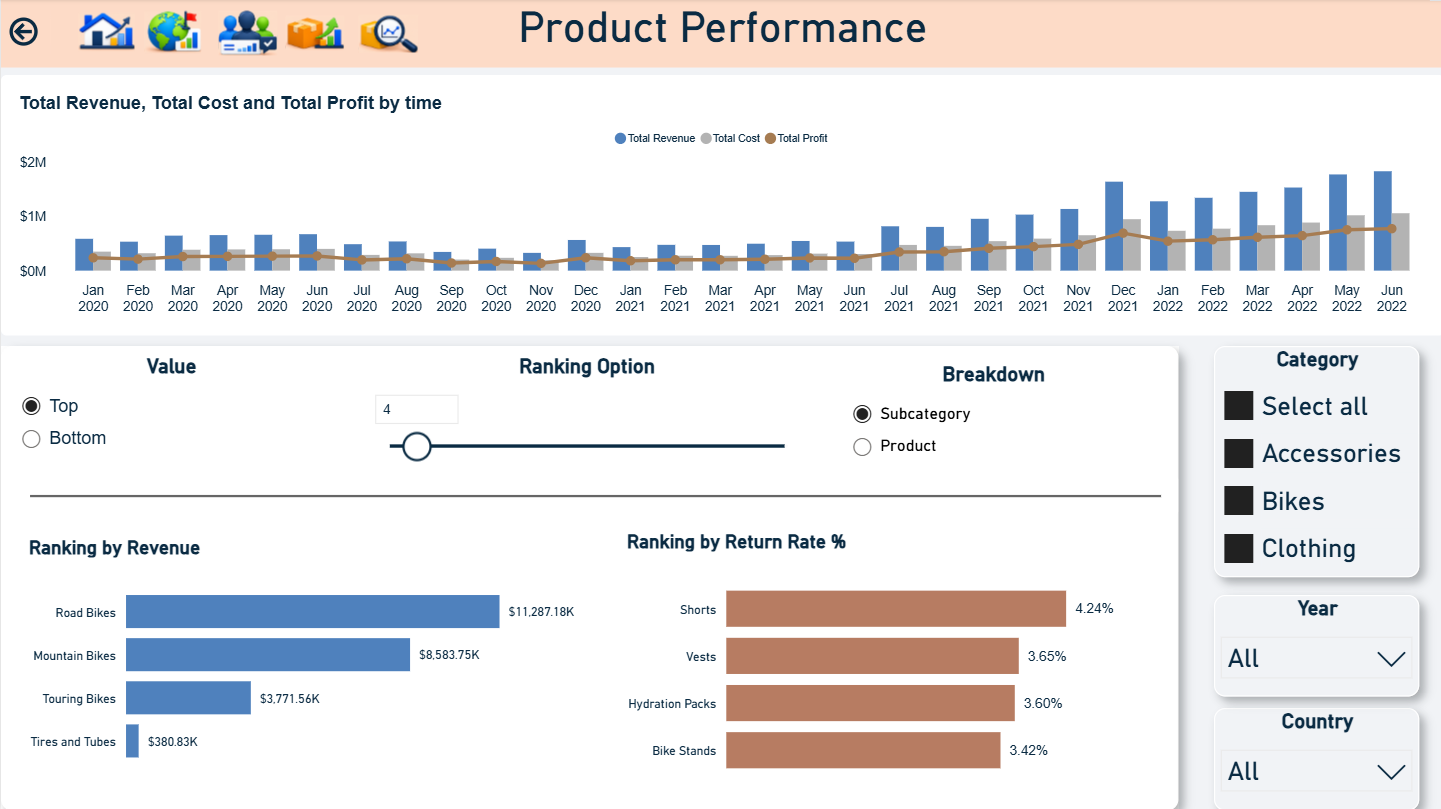

What the dashboard file says about the page in this screenshot:
{"tool":"powerbi","page":{"name":"Product Performance","canvas":[1280,720],"ordinal":4},"visuals":[{"type":"lineClusteredColumnComboChart","title":"Total Revenue, Total Cost and Total Profit by time","fields":{"Category":["Dim_Date.YearMonth"],"Y":["Measure Table.Total Revenue","Measure Table.Total Cost"],"Y2":["Measure Table.Total Profit"]},"box":[0,67.5,1280,230.8],"z":0},{"type":"shape","box":[0,307.4,1044.1,411.6],"z":0,"group":"g3"},{"type":"group","id":"g1","title":"Group 1","box":[0,307.4,1044.1,411.6],"z":1000},{"type":"textbox","box":[0,0,1267.1,54.1],"z":2000},{"type":"group","id":"g2","title":"Group 2","box":[0,1.8,1280.4,58.5],"z":2000,"group":"g4"},{"type":"group","id":"g3","title":"Group 2","box":[0,307.4,1044.1,411.6],"z":2001,"group":"g1"},{"type":"clusteredBarChart","title":"Ranking by Revenue","fields":{"Category":["Dim Product.SubcategoryName"],"Y":["Measure Table.Ranking Revenue SubCategory/Product"]},"box":[9.1,460.2,515,243.9],"z":2063,"group":"g1"},{"type":"clusteredBarChart","title":"Ranking by Return Rate %","fields":{"Category":["Dim Product.SubcategoryName"],"Y":["Measure Table.Ranking Return Rate SubCategory/Product"]},"box":[538.8,454.4,474.6,260.4],"z":2094,"group":"g1"},{"type":"slicer","title":"Value","fields":{"Values":["TopBottom.Value"]},"box":[9.6,313.5,281,109.1],"z":2126,"group":"g1"},{"type":"slicer","title":"Ranking Option","fields":{"Values":["Parameters Ranking.Parameters Ranking"]},"box":[323.1,313.5,391.9,104.1],"z":2251,"group":"g1"},{"type":"slicer","title":"Breakdown","fields":{"Values":["SubCategory/Product.SubCategory/Product"]},"box":[746.6,320.5,265.5,111.4],"z":2501,"group":"g1"},{"type":"actionButton","box":[0,8.9,44.3,39.9],"z":3000,"group":"g5"},{"type":"slicer","title":"Country","fields":{"Values":["Dim Territory.Country"]},"box":[1075.6,628.7,181.8,91.3],"z":3000},{"type":"shape","box":[9.8,421.3,1033.9,38.1],"z":3001,"group":"g1"},{"type":"actionButton","box":[313,0,63,61.2],"z":3125,"group":"g5"},{"type":"actionButton","box":[123.3,0,58.5,58.5],"z":3250,"group":"g5"},{"type":"actionButton","box":[64.5,0,58.5,58.5],"z":3500,"group":"g5"},{"type":"actionButton","box":[188.9,0,63.8,60.3],"z":4000,"group":"g5"},{"type":"slicer","title":"Year","fields":{"Values":["Dim_Date.Year"]},"box":[1075.6,528.5,181.8,90.4],"z":4000},{"type":"actionButton","box":[248.3,0,64.7,60.3],"z":4500,"group":"g5"},{"type":"group","id":"g4","title":"Group 1","box":[0,0,1280.4,61.2],"z":5000},{"type":"slicer","title":"Category","fields":{"Values":["Dim Product.CategoryName"]},"box":[1075.7,308.1,181.6,205.4],"z":6000},{"type":"textbox","box":[0,1.8,1280.4,58.5],"z":12000,"group":"g2"},{"type":"group","id":"g5","title":"Group 3","box":[0,0,376,61.2],"z":14002,"group":"g4"}]}

Visuals, with their boxes in screenshot pixels (x1, y1, x2, y2), scaled from the page's 1280x720 canvas onto the 1441x809 screenshot:
"Total Revenue, Total Cost and Total Profit by time" lineClusteredColumnComboChart: (x1=0, y1=76, x2=1440, y2=335)
shape: (x1=0, y1=345, x2=1175, y2=808)
"Group 1" group: (x1=0, y1=345, x2=1175, y2=808)
textbox: (x1=0, y1=0, x2=1426, y2=61)
"Group 2" group: (x1=0, y1=2, x2=1440, y2=68)
"Group 2" group: (x1=0, y1=345, x2=1175, y2=808)
"Ranking by Revenue" clusteredBarChart: (x1=10, y1=517, x2=590, y2=791)
"Ranking by Return Rate %" clusteredBarChart: (x1=607, y1=511, x2=1141, y2=803)
"Value" slicer: (x1=11, y1=352, x2=327, y2=475)
"Ranking Option" slicer: (x1=364, y1=352, x2=805, y2=469)
"Breakdown" slicer: (x1=841, y1=360, x2=1139, y2=485)
actionButton: (x1=0, y1=10, x2=50, y2=55)
"Country" slicer: (x1=1211, y1=706, x2=1416, y2=808)
shape: (x1=11, y1=473, x2=1175, y2=516)
actionButton: (x1=352, y1=0, x2=423, y2=69)
actionButton: (x1=139, y1=0, x2=205, y2=66)
actionButton: (x1=73, y1=0, x2=138, y2=66)
actionButton: (x1=213, y1=0, x2=284, y2=68)
"Year" slicer: (x1=1211, y1=594, x2=1416, y2=695)
actionButton: (x1=280, y1=0, x2=352, y2=68)
"Group 1" group: (x1=0, y1=0, x2=1440, y2=69)
"Category" slicer: (x1=1211, y1=346, x2=1415, y2=577)
textbox: (x1=0, y1=2, x2=1440, y2=68)
"Group 3" group: (x1=0, y1=0, x2=423, y2=69)
